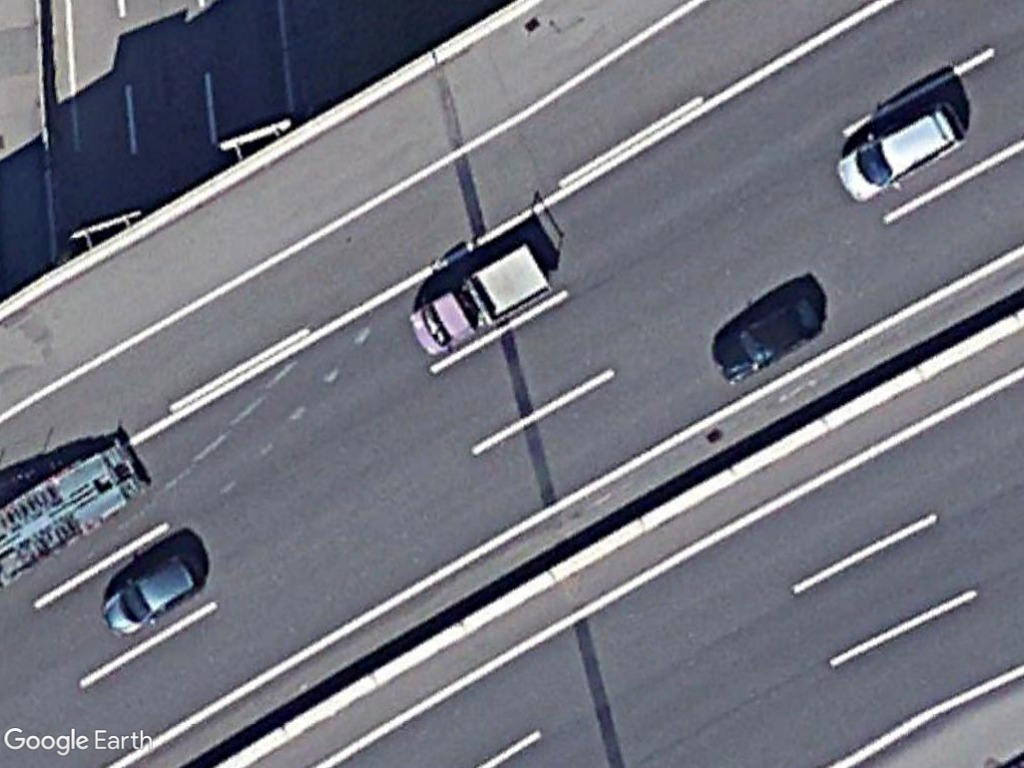car: (832, 101, 967, 205), (102, 550, 204, 640)
others: (405, 245, 555, 360)
